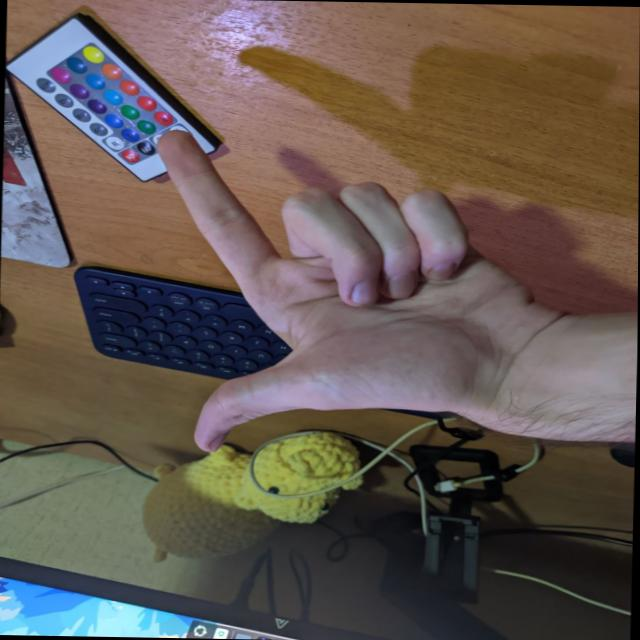g: (125, 136, 521, 467)
